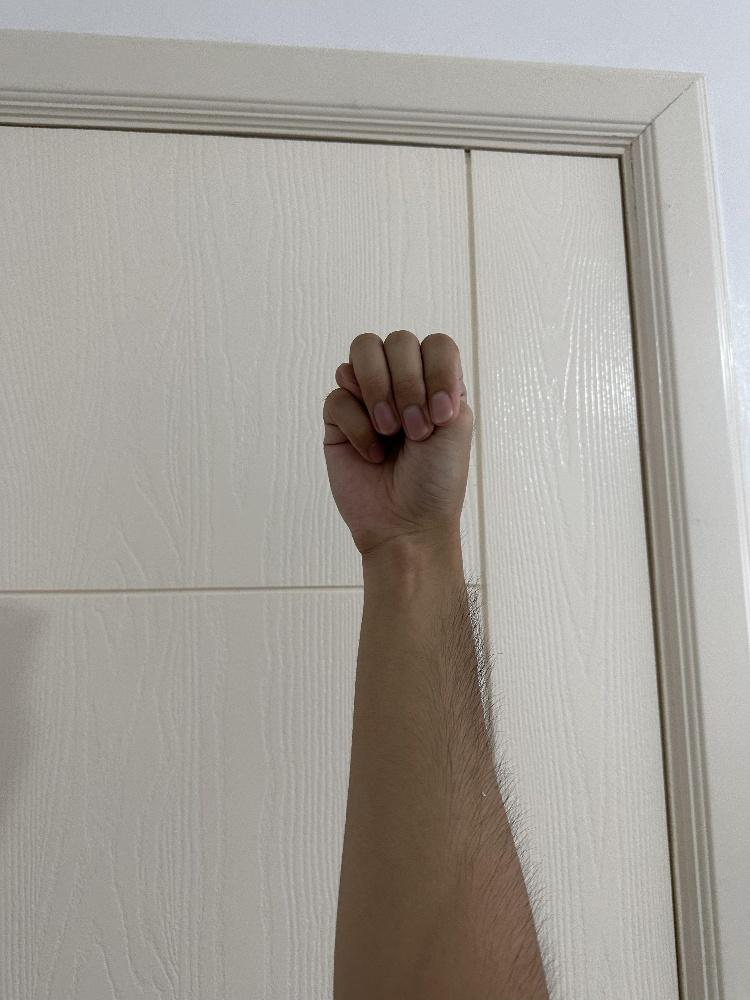m: (320, 326, 477, 551)
